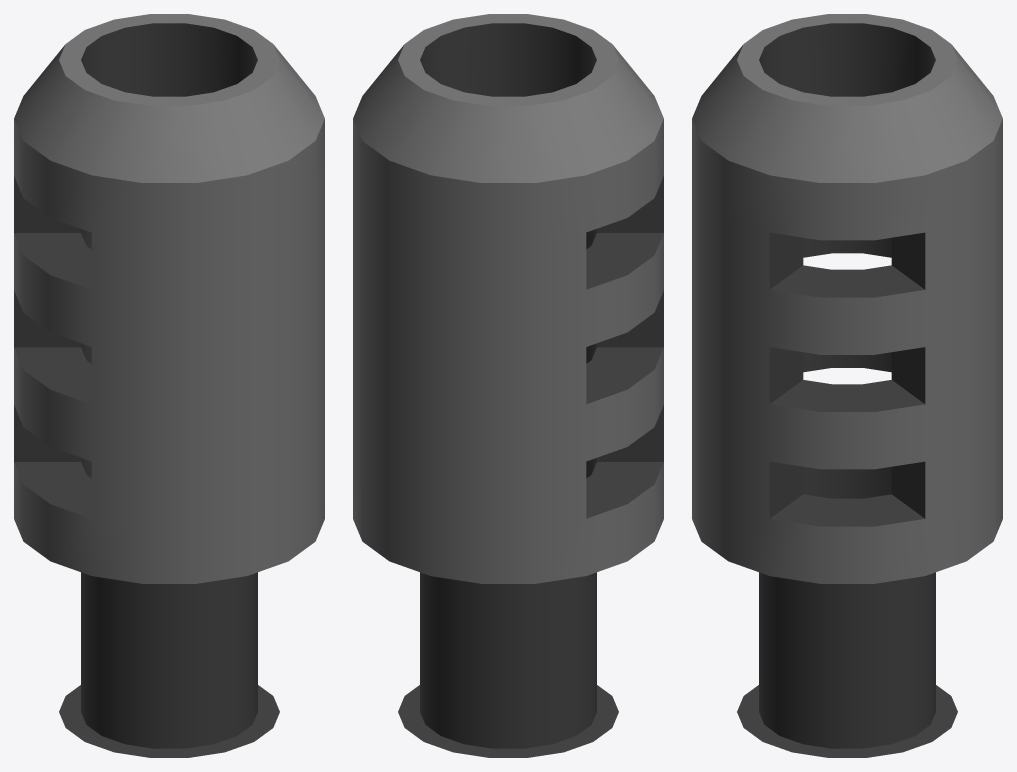
The model's file is Wea_SuShe2_on.fbx.
The picture shows the model from 3 angles, left to right: view 1: azimuth 30°, elevation 25°; view 2: azimuth 150°, elevation 25°; view 3: azimuth 270°, elevation 25°; orthographic projection.
Visible parts, largest first — view 1: Box001; view 2: Box001; view 3: Box001.
Part boxes in pixels (x1,y1,x2,y2): Box001: (14, 14, 324, 757); Box001: (353, 14, 663, 757); Box001: (692, 14, 1002, 757).
Bounding box in the file's own units: 0.6924 × 1.63 × 0.7031.
